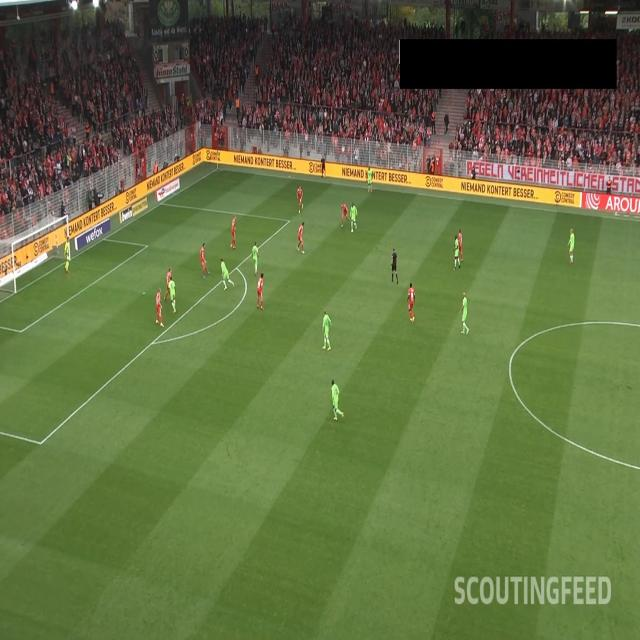ball: (350, 228, 354, 235)
